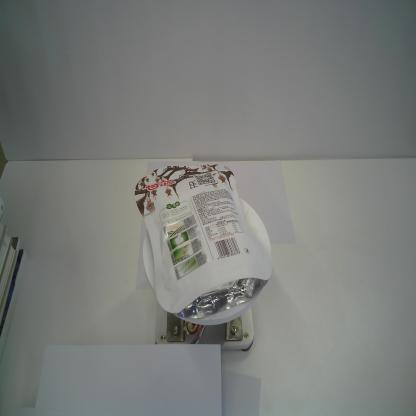Dried Fruit: (134, 161, 272, 319)
